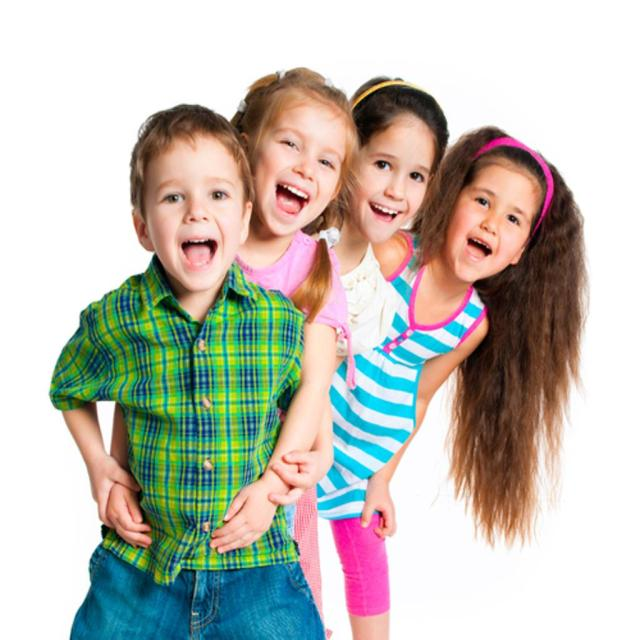Face: (149, 139, 244, 299), (454, 151, 557, 286), (358, 106, 441, 251), (268, 90, 343, 248)
